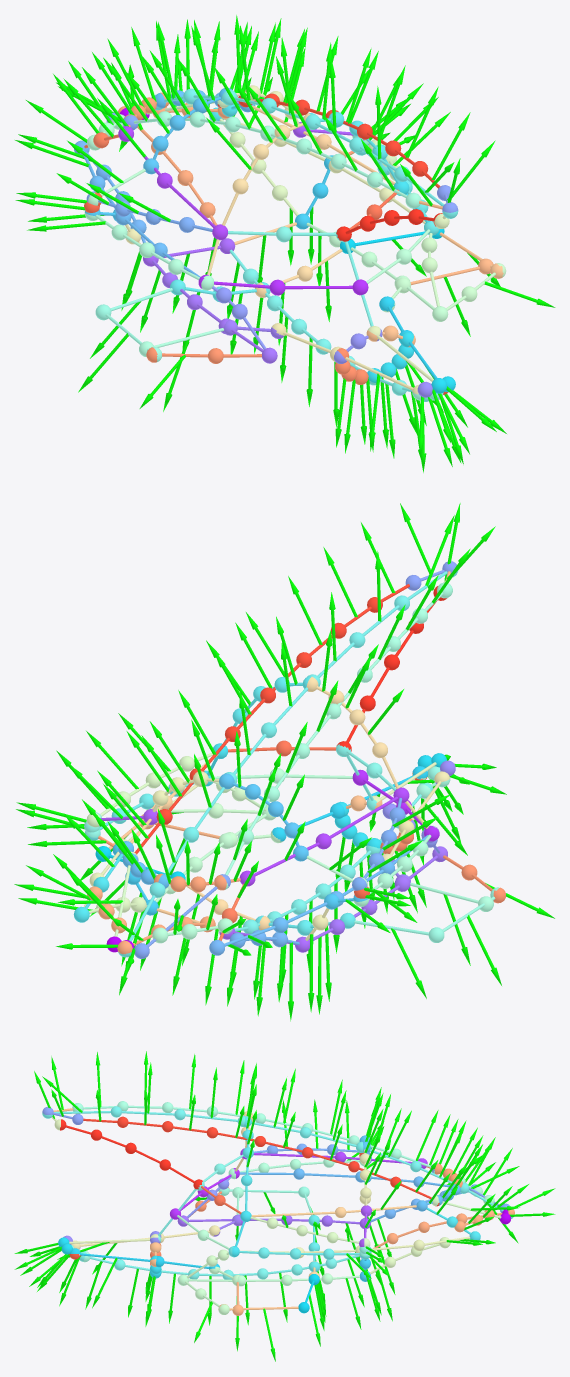
File: ils_spacecraft_78.gltf
The picture shows the model from 3 angles, top to bottom: view 1: azimuth 30°, elevation 25°; view 2: azimuth 150°, elevation 25°; view 3: azimuth 270°, elevation 25°; orthographic projection. The views are drawn at different scales.
Size of the model in its own units: 0.6109 by 0.513 by 0.9508.
